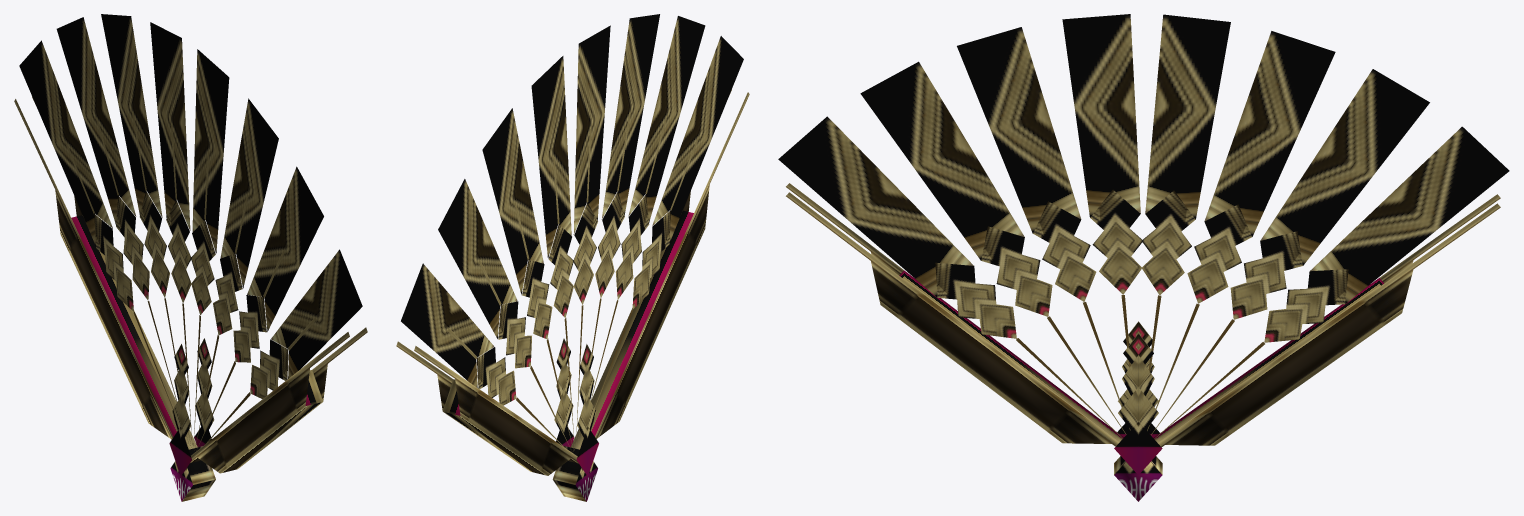
The model's file is macabredancer02.obj.
The picture shows the model from 3 angles, left to right: view 1: azimuth 30°, elevation 25°; view 2: azimuth 150°, elevation 25°; view 3: azimuth 270°, elevation 25°; orthographic projection. The views are drawn at different scales.
Parts seen in each view (by area): view 1: MDL_w2dfn02l_bld00.002; view 2: MDL_w2dfn02l_bld00.002; view 3: MDL_w2dfn02l_bld00.002.
Boxes of the visible parts, x1,y1,x2,y2 form: MDL_w2dfn02l_bld00.002: (14,14,367,501); MDL_w2dfn02l_bld00.002: (396,14,749,501); MDL_w2dfn02l_bld00.002: (778,14,1509,501).
Size of the model in its own units: 0.0434 by 0.7591 by 1.04.
